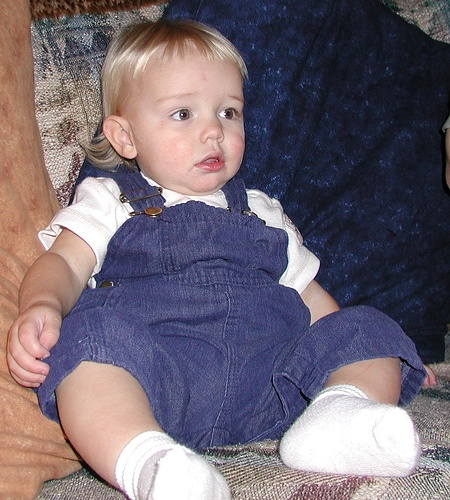head: (103, 18, 249, 200)
person: (8, 11, 433, 498)
